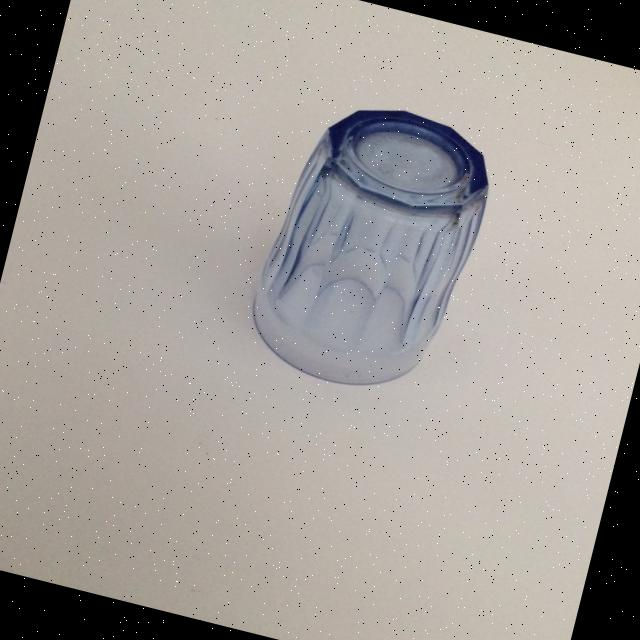glass: (237, 85, 504, 408)
